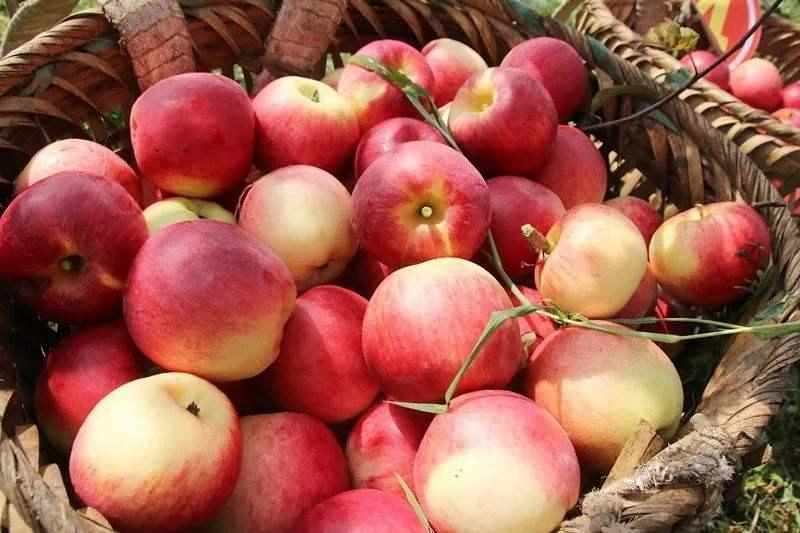apple: (121, 218, 297, 382), (67, 369, 243, 529), (524, 321, 685, 479), (359, 256, 522, 405), (414, 388, 581, 533), (1, 168, 151, 327), (350, 140, 492, 267), (264, 285, 380, 426), (32, 319, 151, 454), (129, 70, 253, 198), (233, 164, 357, 287), (526, 203, 653, 322), (650, 196, 773, 311), (447, 65, 559, 174), (247, 74, 361, 174), (482, 175, 565, 285), (341, 38, 436, 132), (500, 33, 594, 123), (726, 56, 784, 111)
